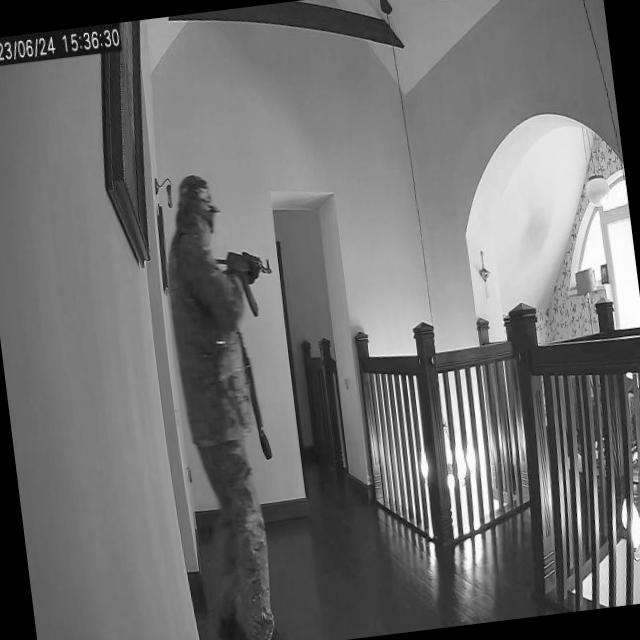gun: (210, 242, 275, 292)
person with a gun: (154, 162, 319, 640)
